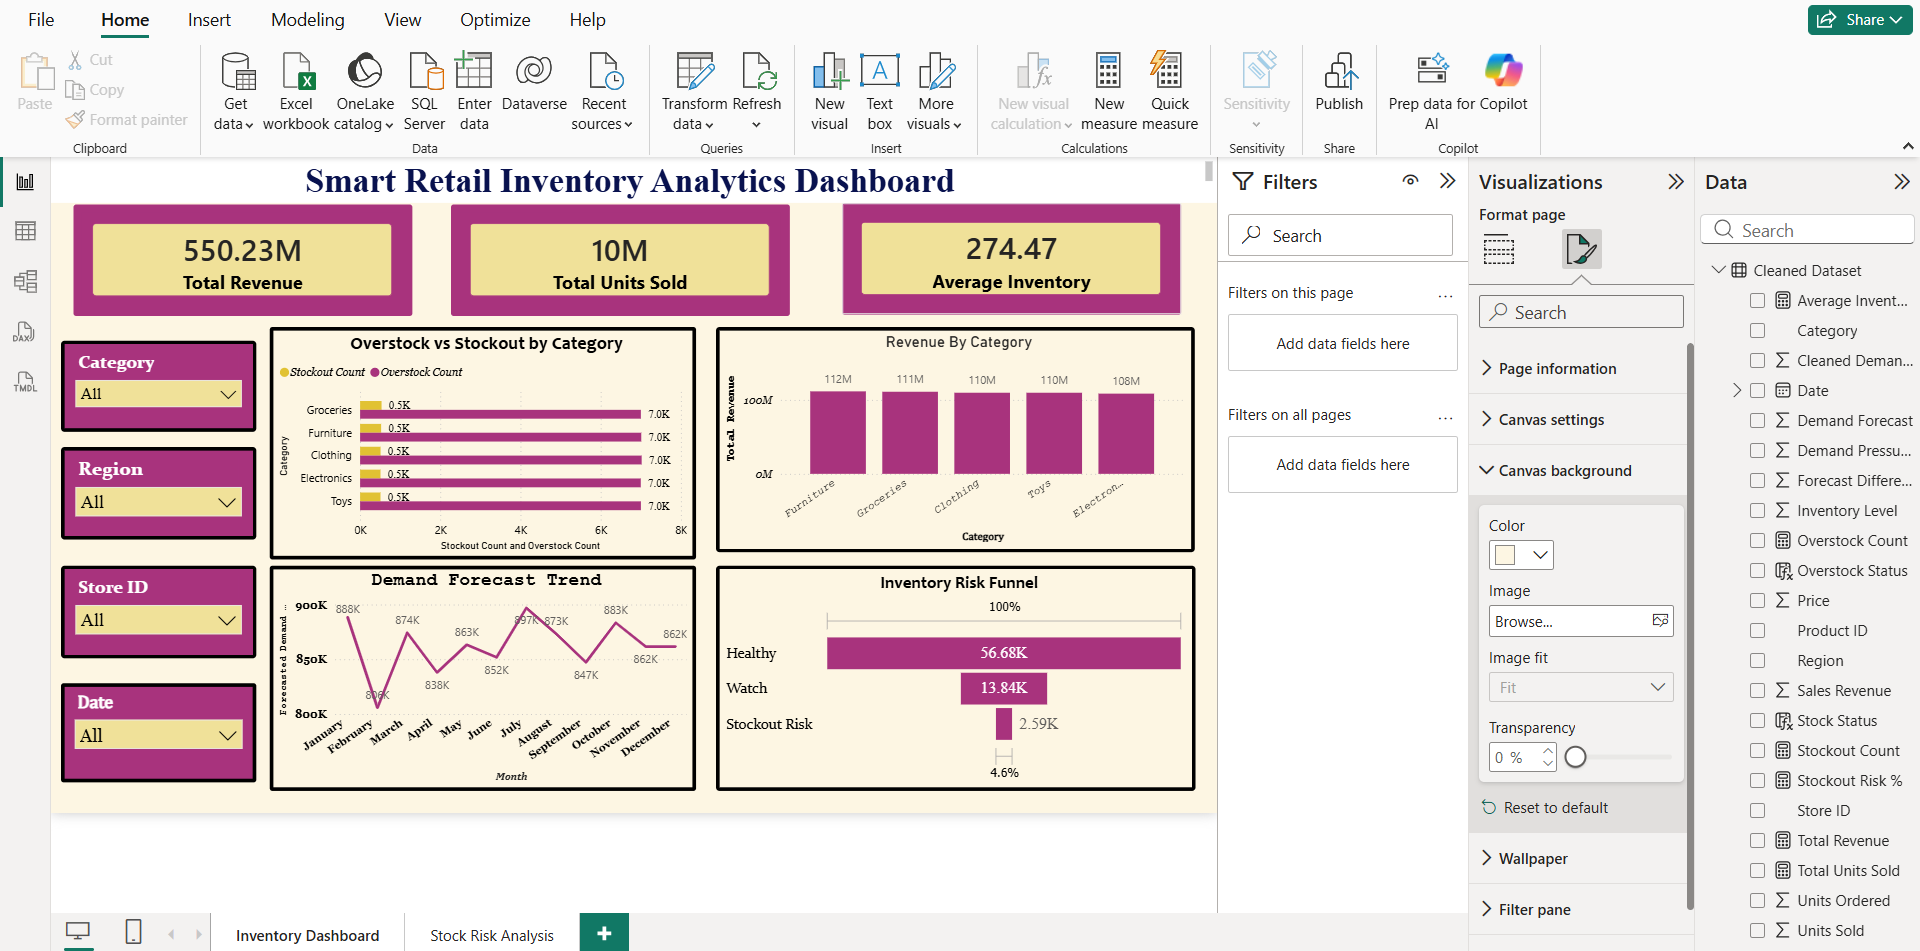

Layout of this report page (visuals, bound fields, positions):
{"tool":"powerbi","page":{"name":"Inventory Dashboard","canvas":[1280,720],"ordinal":0},"visuals":[{"type":"cardVisual","fields":{"Data":["Cleaned Dataset.Average Inventory"]},"box":[868.6,50.8,371.9,122.1],"z":0},{"type":"lineChart","title":"Demand Forecast Trend","fields":{"Category":["Cleaned Dataset.Date.Variation.Date Hierarchy.Year","Cleaned Dataset.Date.Variation.Date Hierarchy.Quarter","Cleaned Dataset.Date.Variation.Date Hierarchy.Month","Cleaned Dataset.Date.Variation.Date Hierarchy.Day"],"Y":["Sum(Cleaned Dataset.Cleaned Demand Forecast)"]},"box":[240.1,448.7,467.9,247],"z":1000},{"type":"clusteredColumnChart","title":"Revenue By Category","fields":{"Category":["Cleaned Dataset.Category"],"Y":["Cleaned Dataset.Total Revenue"]},"box":[730,186.6,525.6,247],"z":2000},{"type":"textbox","box":[0,0,1280.3,50.8],"z":3000},{"type":"slicer","fields":{"Values":["Cleaned Dataset.Category"]},"box":[11,201.7,214.1,100.2],"z":4000},{"type":"slicer","fields":{"Values":["Cleaned Dataset.Region"]},"box":[11,318.4,214.1,101.5],"z":5000},{"type":"slicer","fields":{"Values":["Cleaned Dataset.Store ID"]},"box":[11,448.7,214.1,101.5],"z":6000},{"type":"slicer","fields":{"Values":["Cleaned Dataset.Date"]},"box":[11,577.7,214.1,108.4],"z":7000},{"type":"clusteredBarChart","title":"Overstock vs Stockout by Category","fields":{"Category":["Cleaned Dataset.Category"],"Y":["Cleaned Dataset.Stockout Count","Cleaned Dataset.Overstock Count"]},"box":[240.1,186.6,467.9,255.2],"z":8000},{"type":"funnel","title":"Inventory Risk Funnel","fields":{"Category":["Cleaned Dataset.Stock Status"],"Y":["CountNonNull(Cleaned Dataset.Product ID)"]},"box":[730,449,526,247],"z":9000},{"type":"cardVisual","fields":{"Data":["Cleaned Dataset.Total Units Sold"]},"box":[439.1,52.1,371.9,122.1],"z":10000},{"type":"cardVisual","fields":{"Data":["Cleaned Dataset.Total Revenue"]},"box":[24.7,52.1,371.9,122.1],"z":11000}]}

Visuals, with their boxes on the page's 1280x720 design canvas (x1, y1, x2, y2). These are canvas units, not pixel positions in the 1920x951 screenshot, which may show the page scaled, cropped or inside an application window:
cardVisual - Cleaned Dataset.Average Inventory: pyautogui.locateOnScreen(869, 51, 1240, 173)
"Demand Forecast Trend" lineChart: pyautogui.locateOnScreen(240, 449, 708, 696)
"Revenue By Category" clusteredColumnChart: pyautogui.locateOnScreen(730, 187, 1256, 434)
textbox: pyautogui.locateOnScreen(0, 0, 1280, 51)
slicer - Cleaned Dataset.Category: pyautogui.locateOnScreen(11, 202, 225, 302)
slicer - Cleaned Dataset.Region: pyautogui.locateOnScreen(11, 318, 225, 420)
slicer - Cleaned Dataset.Store ID: pyautogui.locateOnScreen(11, 449, 225, 550)
slicer - Cleaned Dataset.Date: pyautogui.locateOnScreen(11, 578, 225, 686)
"Overstock vs Stockout by Category" clusteredBarChart: pyautogui.locateOnScreen(240, 187, 708, 442)
"Inventory Risk Funnel" funnel: pyautogui.locateOnScreen(730, 449, 1256, 696)
cardVisual - Cleaned Dataset.Total Units Sold: pyautogui.locateOnScreen(439, 52, 811, 174)
cardVisual - Cleaned Dataset.Total Revenue: pyautogui.locateOnScreen(25, 52, 397, 174)
